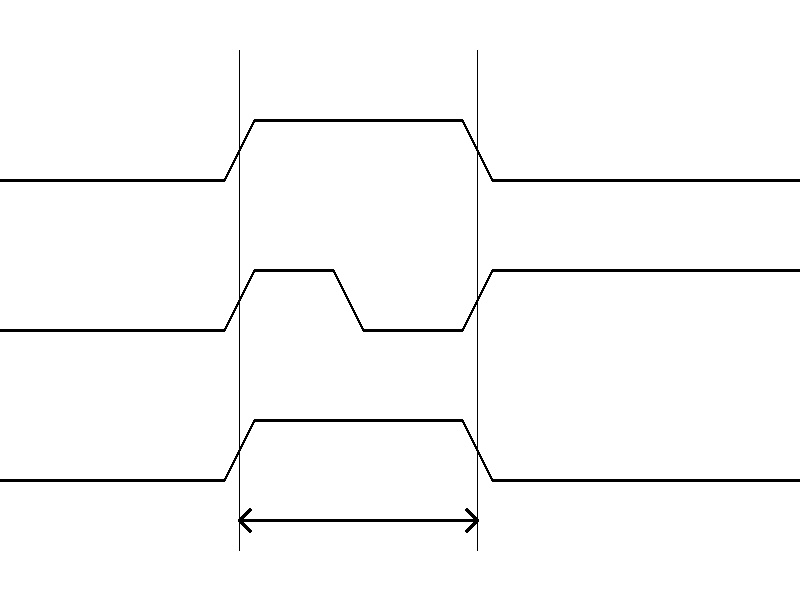double_arrow: (239, 505, 477, 535)
